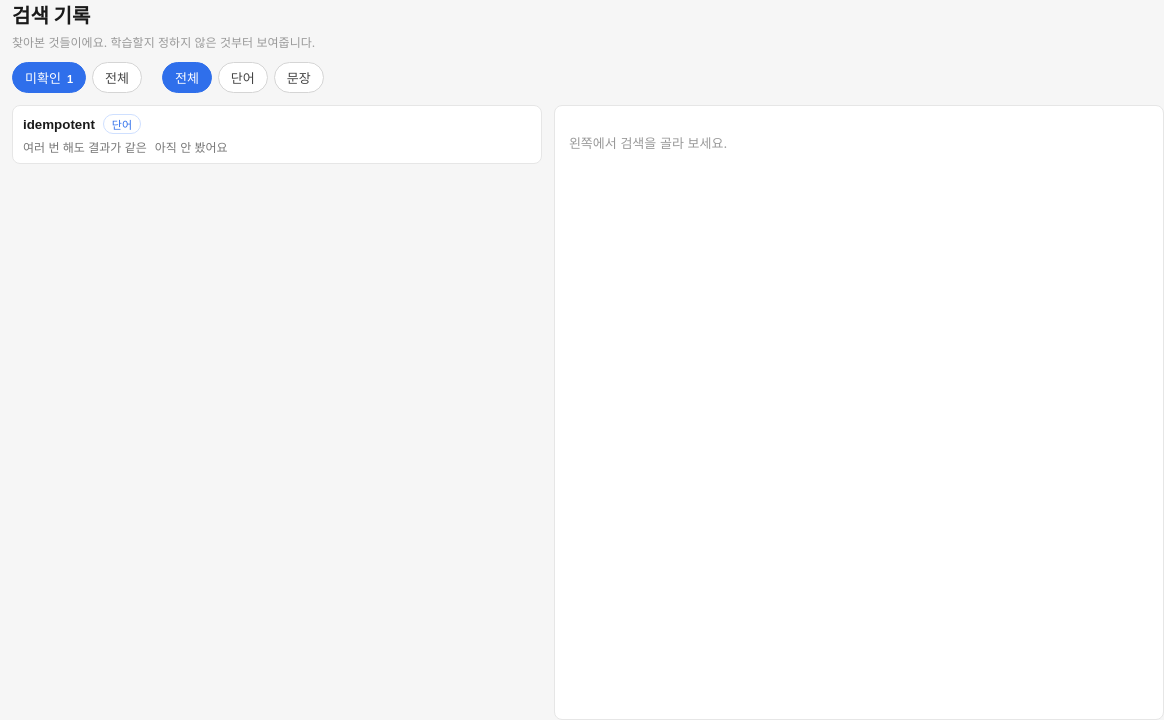
Test: 검색 기록 › 단어를 고르면 학습에 담을 수 있다
This screenshot has width=1164, height=720.
Click the text "idempotent": (59, 124) 23,117 -> 95,132
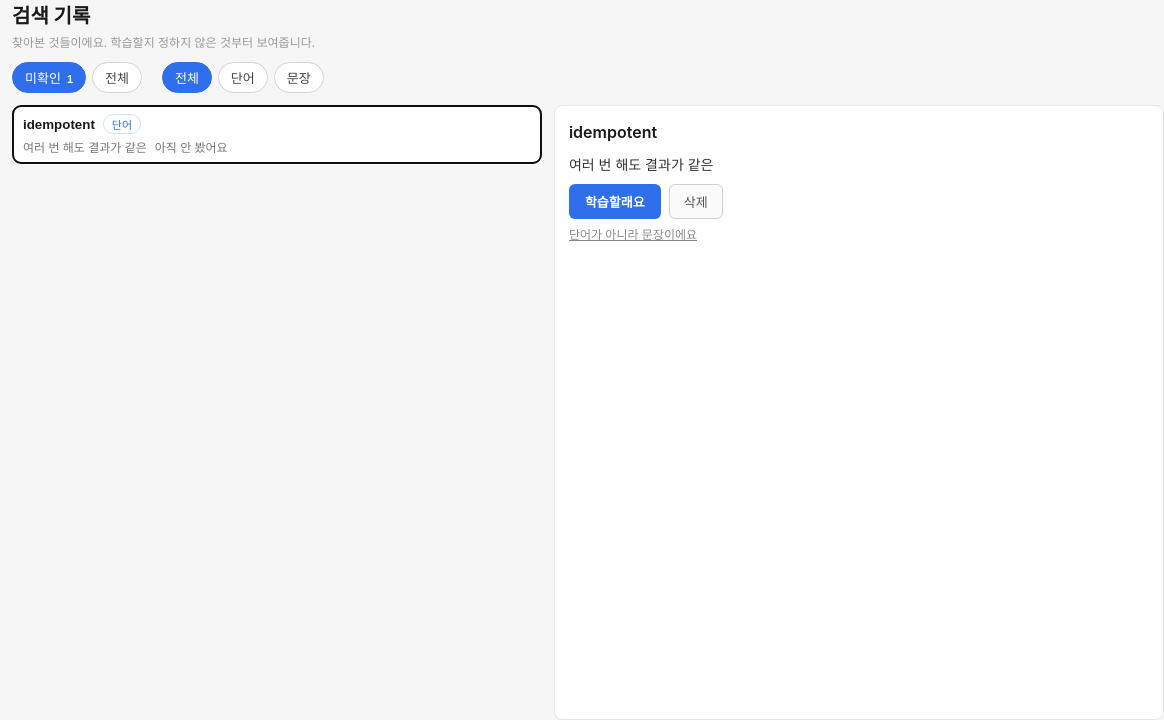
Click the button "학습할래요": (615, 202) 569,184 -> 661,219
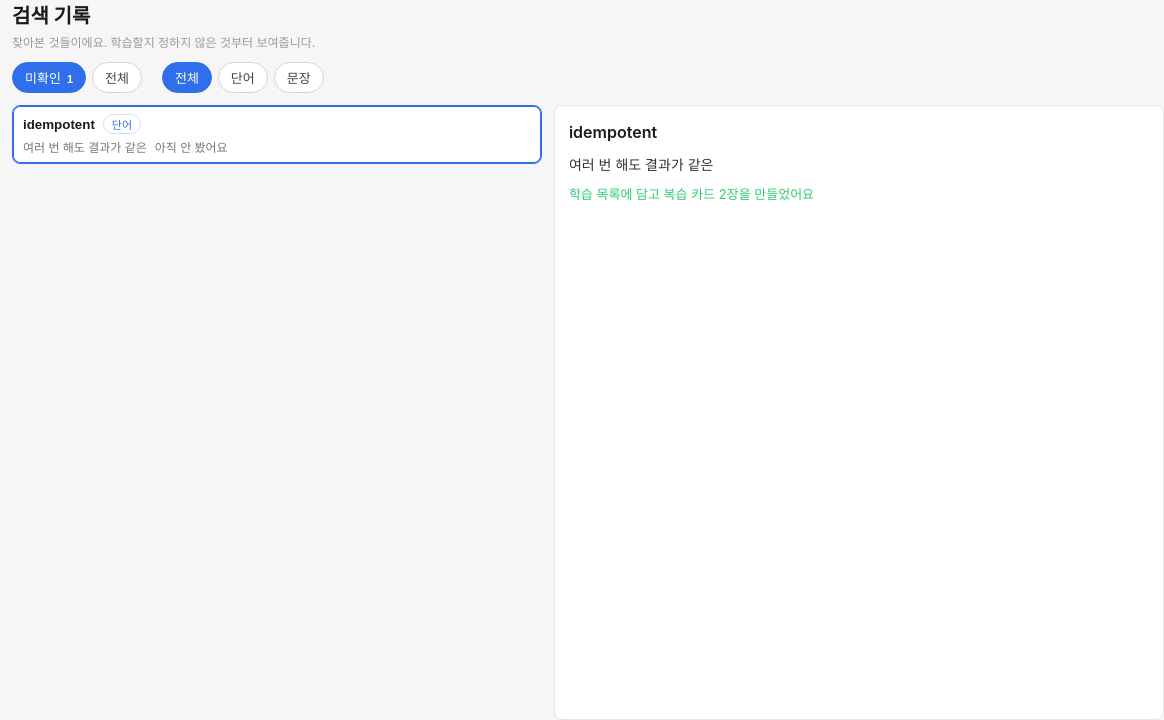
Result: the text "학습 목록에 담고 복습 카드 2장을 만들었어요" is shown at 569,186 -> 814,202
